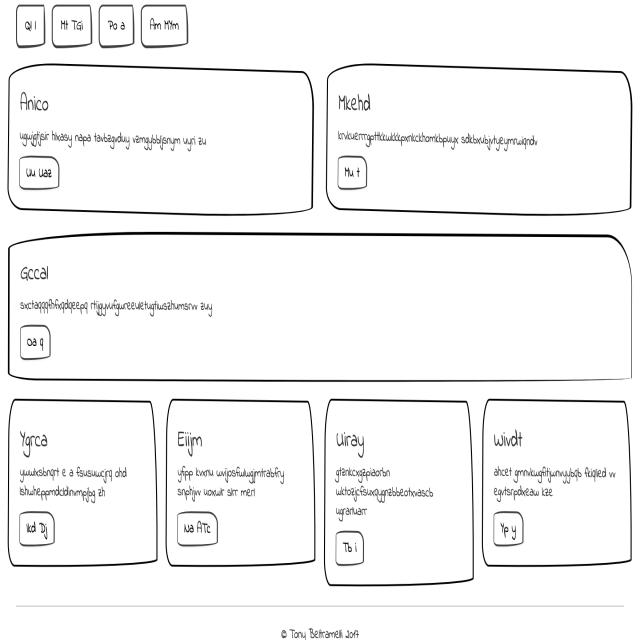Button: (176, 508, 240, 553), (16, 155, 71, 197), (18, 506, 60, 550), (491, 509, 532, 554), (17, 318, 61, 358), (334, 146, 369, 196), (331, 525, 369, 567)
Card: (5, 233, 634, 392), (321, 59, 640, 222), (9, 68, 314, 220), (324, 400, 478, 587), (7, 395, 157, 575), (165, 394, 319, 568), (480, 402, 634, 576)
Footer: (2, 586, 640, 640)
Heading 6: (337, 82, 379, 120), (16, 424, 56, 463), (174, 423, 212, 460), (16, 255, 56, 290), (333, 424, 373, 459), (16, 82, 52, 119), (491, 420, 526, 454)
Navigation Bar: (12, 1, 196, 58)
Paragraph: (331, 116, 546, 148), (14, 122, 216, 156), (491, 457, 622, 509), (332, 459, 436, 524), (14, 294, 220, 324), (173, 458, 296, 505), (20, 462, 130, 503)
